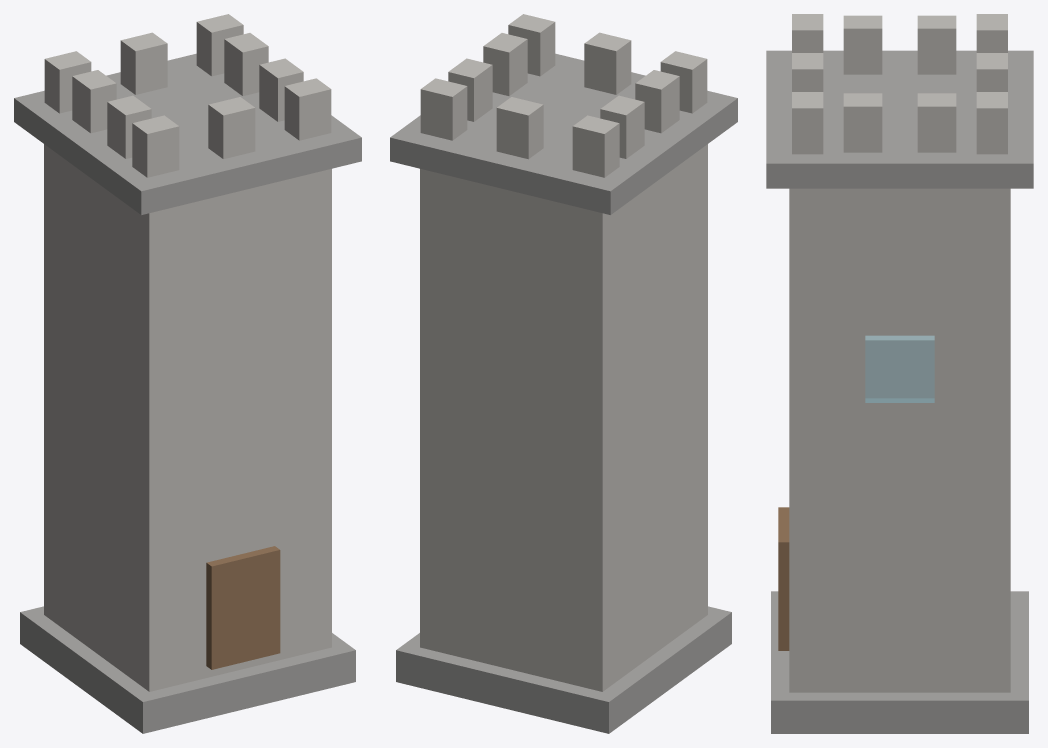
The model's file is BLD-tower-01.glb.
3 renders of one model, left to right at view 1: azimuth 30°, elevation 25°; view 2: azimuth 150°, elevation 25°; view 3: azimuth 270°, elevation 25°, orthographic. The views are drawn at different scales.
Parts seen in each view (by area): view 1: BLD-tower-01; view 2: BLD-tower-01; view 3: BLD-tower-01.
Boxes of the visible parts, box(x1,y1,x2,y2) form: BLD-tower-01: box(14, 14, 361, 733); BLD-tower-01: box(390, 14, 737, 733); BLD-tower-01: box(766, 14, 1033, 733).
Bounding box in the file's own units: 2.9 × 7.4 × 2.9.
